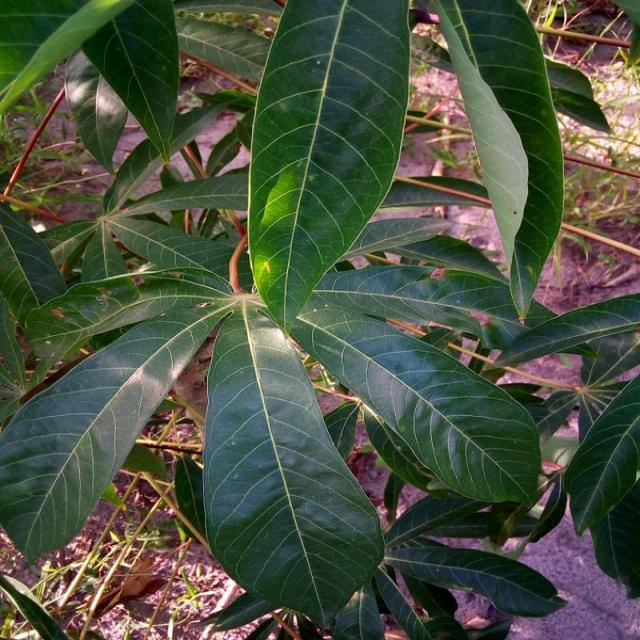cassava leaf: (0, 293, 234, 569), (201, 296, 385, 632), (246, 0, 411, 335), (433, 0, 565, 320)
